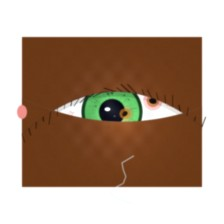foreign_body_visible: (134, 86, 172, 116)
